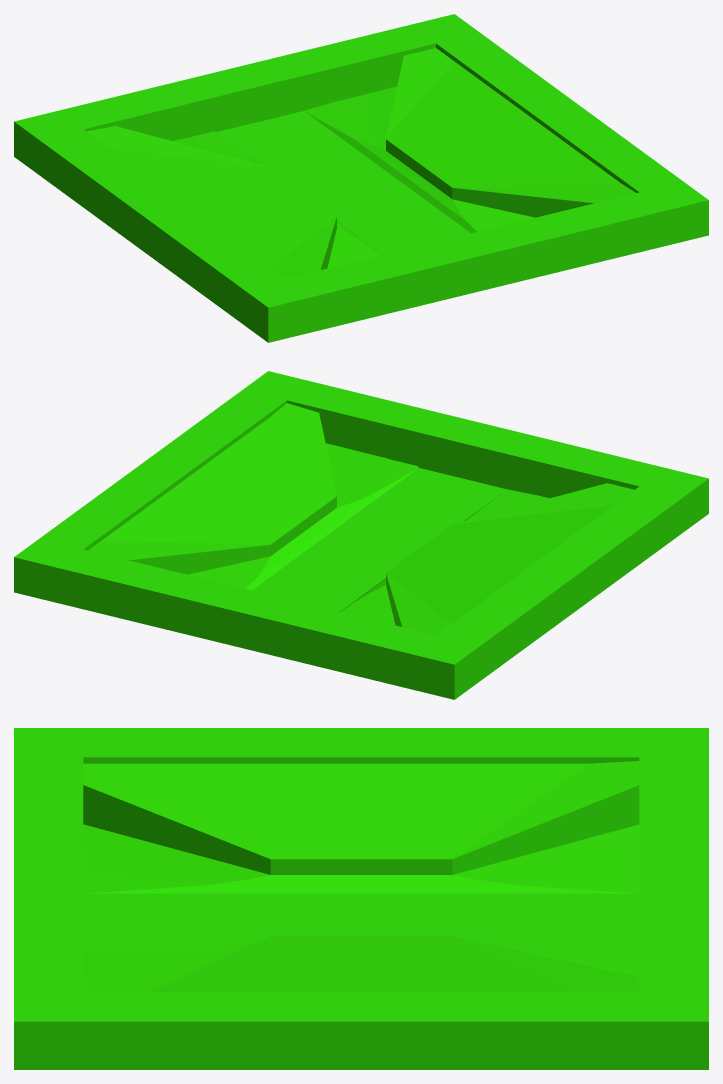
Rendered from golfarea.glb.
The picture shows the model from 3 angles, top to bottom: view 1: azimuth 30°, elevation 25°; view 2: azimuth 150°, elevation 25°; view 3: azimuth 270°, elevation 25°; orthographic projection. The views are drawn at different scales.
Parts seen in each view (by area): view 1: End, Flat.001, Flat, Hole; view 2: Flat.001, End, Flat, Hole; view 3: Flat.001, End, Flat, Hole.
Part boxes in pixels (<box>): End: <box>14,14,708,331</box>; Flat.001: <box>86,48,635,278</box>; Flat: <box>14,15,708,342</box>; Hole: <box>14,25,708,342</box>; Flat.001: <box>88,403,634,635</box>; End: <box>14,371,708,697</box>; Flat: <box>14,371,708,699</box>; Hole: <box>14,402,708,698</box>; Flat.001: <box>83,761,639,992</box>; End: <box>14,728,708,1069</box>; Flat: <box>14,745,708,1069</box>; Hole: <box>14,757,708,1068</box>.
Bounding box in the file's own units: 2 × 0.2314 × 2.
